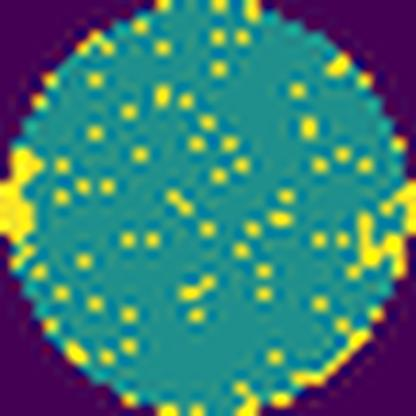Edge-Loc: (0, 142, 44, 277), (361, 214, 412, 281), (383, 173, 415, 234)
